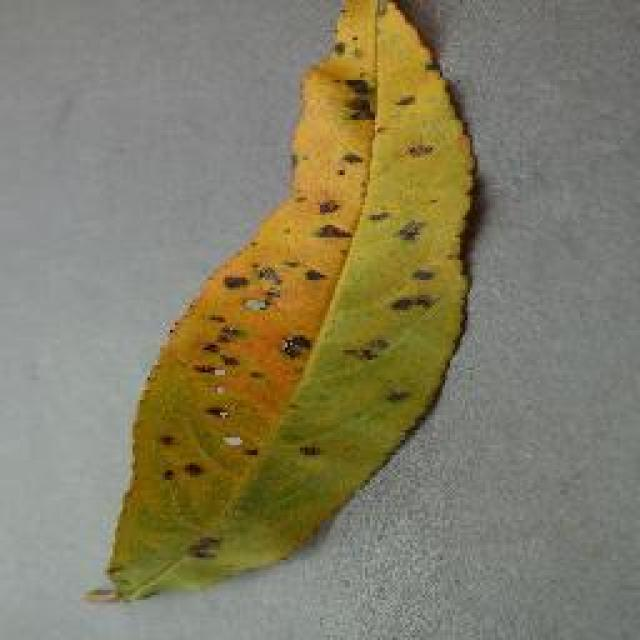Peach_Bacterial_Spot: (246, 27, 432, 525)
